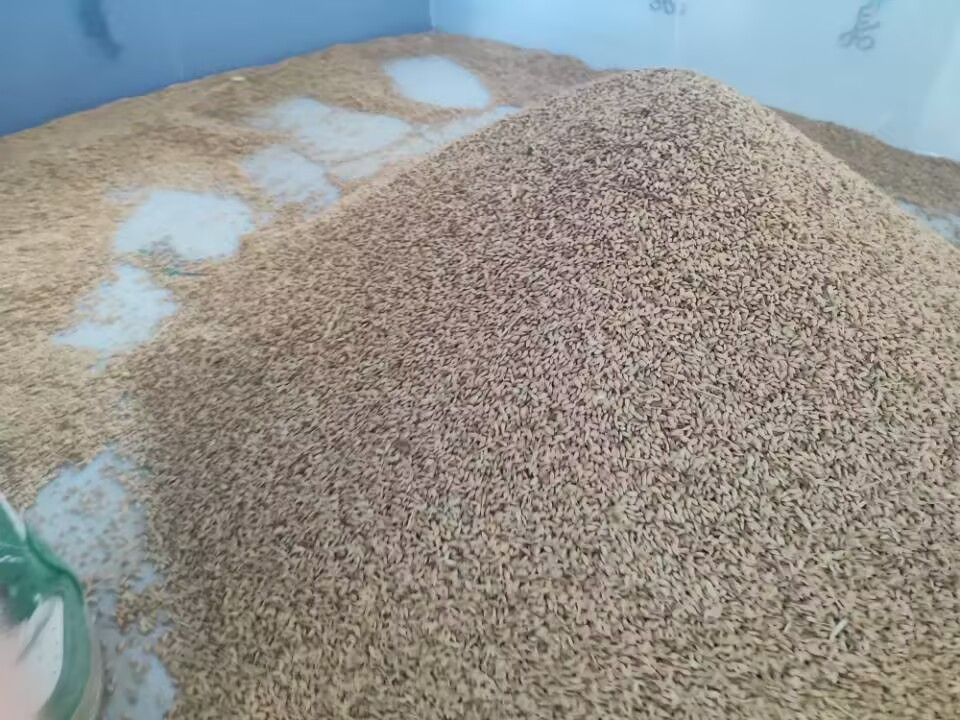Grain: (289, 41, 938, 674)
